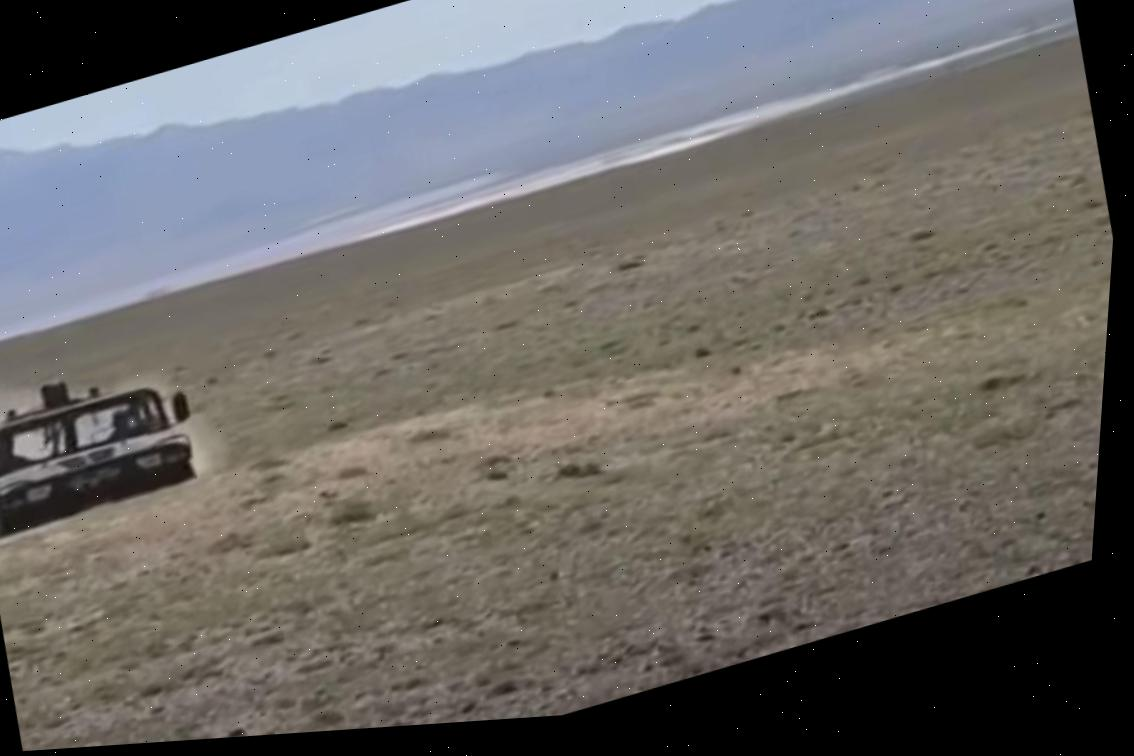armored_car: (0, 342, 210, 541)
